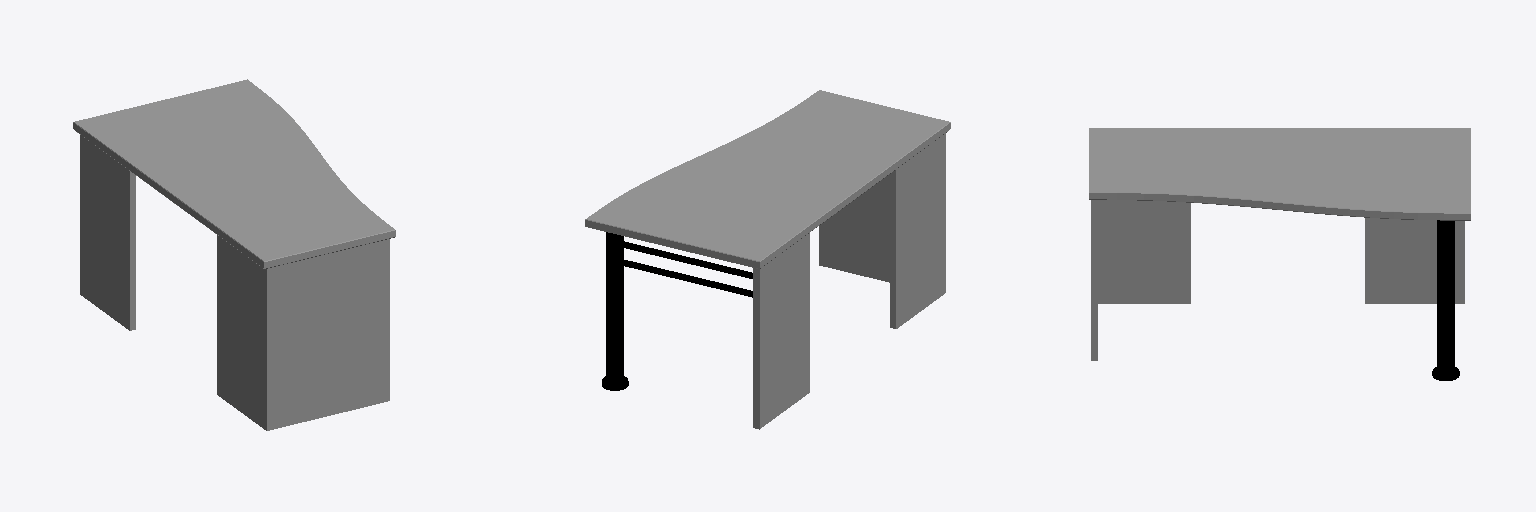
Rendered from table.obj.
3 views of the same model, side by side, from view 1: azimuth 30°, elevation 25°; view 2: azimuth 150°, elevation 25°; view 3: azimuth 270°, elevation 25° (orthographic).
Visible parts, largest first — view 1: Table; view 2: Table; view 3: Table.
Part boxes in pixels (x1,y1,x2,y2): Table: (73, 79, 395, 430); Table: (585, 90, 950, 429); Table: (1089, 128, 1470, 380).
Bounding box in the file's own units: 0.8066 × 0.7554 × 1.53.